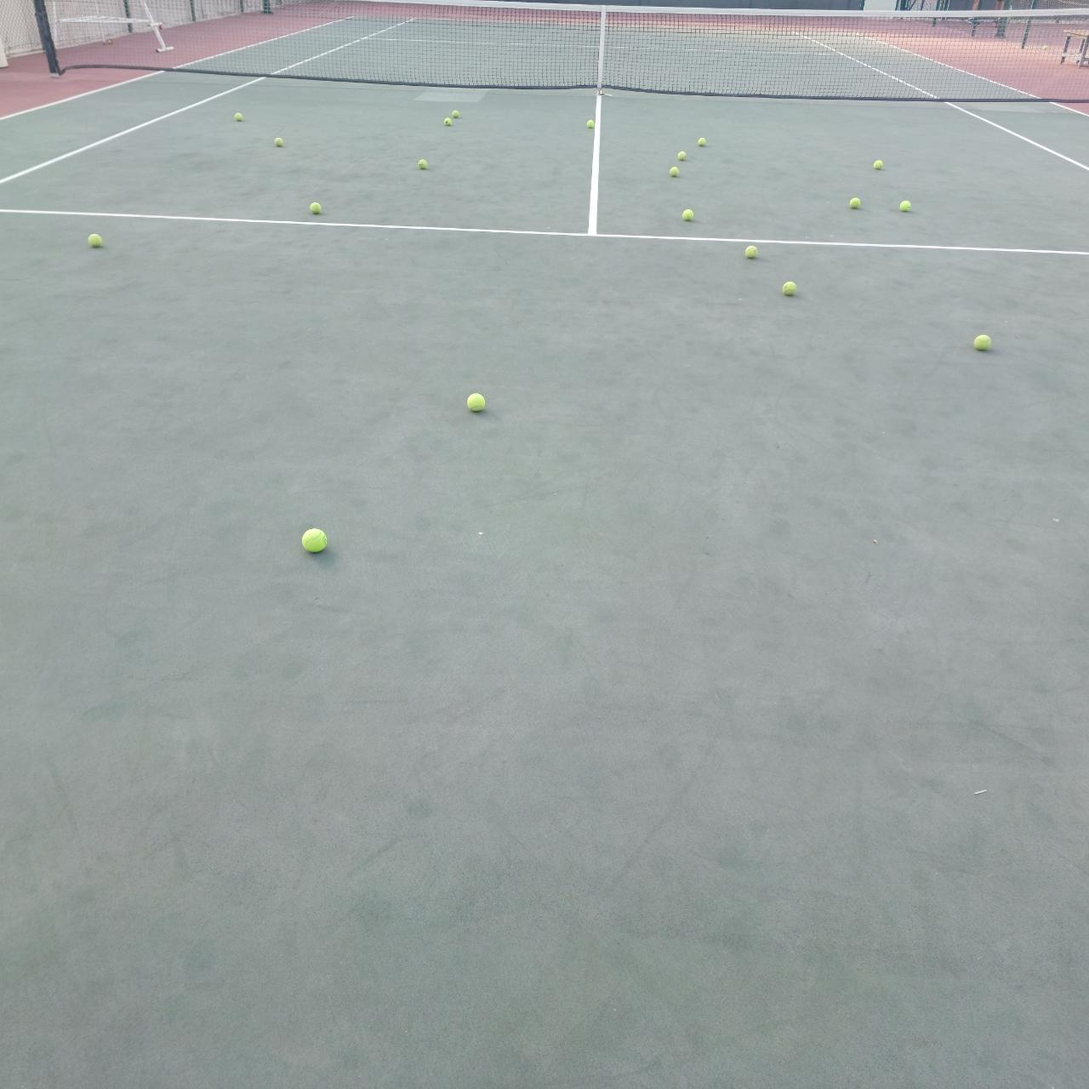tennis-ball: (299, 525, 328, 553), (465, 390, 486, 412), (974, 334, 992, 352), (86, 231, 103, 248), (780, 279, 796, 295), (744, 243, 758, 259), (309, 201, 322, 216), (681, 209, 694, 221), (899, 200, 910, 212), (850, 197, 861, 209), (418, 159, 428, 170), (669, 167, 679, 177), (274, 137, 283, 148), (874, 160, 883, 171), (234, 113, 243, 122), (451, 110, 460, 119), (587, 120, 595, 130), (678, 151, 686, 161), (444, 118, 452, 127), (698, 138, 706, 147)
